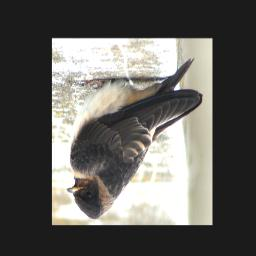Swallow: (65, 56, 203, 221)
